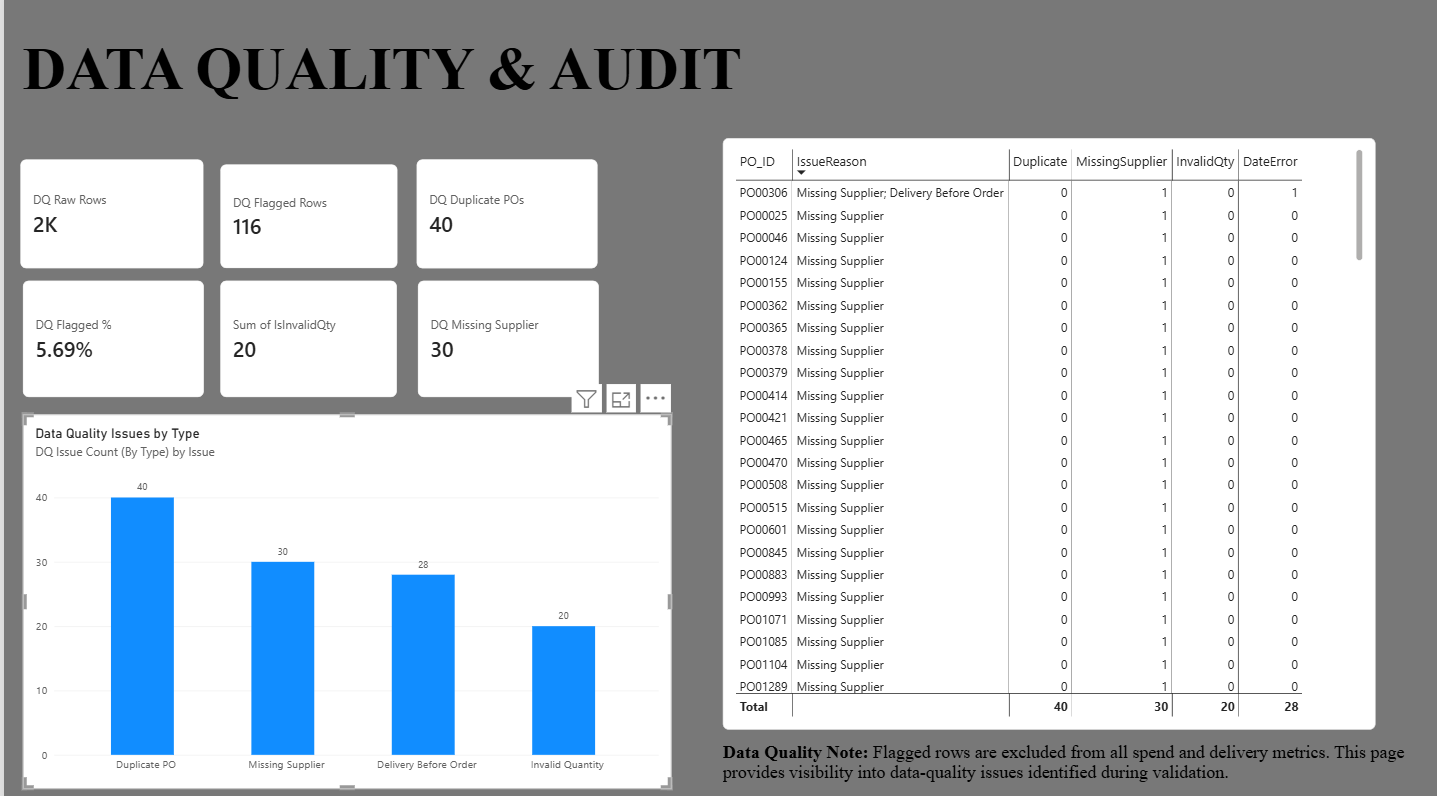

The page's visual inventory and layout, read from the dashboard file:
{"tool":"powerbi","page":{"name":"Data Quality & Audit","canvas":[1920,1080],"ordinal":2},"visuals":[{"type":"cardVisual","fields":{"Data":["DQ_Log.DQ Raw Rows"]},"box":[20.9,221.5,245.9,146.5],"z":0},{"type":"cardVisual","fields":{"Data":["DQ_Log.DQ Flagged %"]},"box":[24.4,383.7,242.4,157],"z":1},{"type":"cardVisual","fields":{"Data":["DQ_Log.DQ Duplicate POs"]},"box":[551.2,221.5,242.9,146.1],"z":2},{"type":"cardVisual","fields":{"Data":["DQ_Log.DQ Missing Supplier"]},"box":[552.9,383.7,242.4,157],"z":3},{"type":"cardVisual","fields":{"Data":["DQ_Log.DQ Flagged Rows"]},"box":[289.5,228.5,237.2,139.5],"z":4},{"type":"cardVisual","fields":{"Data":["Sum(DQ_Log.IsInvalidQty)"]},"box":[289.5,383.7,236.7,156.4],"z":5},{"type":"clusteredColumnChart","title":"Data Quality Issues by Type","fields":{"Category":["DQIssueType.Issue"],"Y":["DQIssueType.DQ Issue Count (By Type)"]},"box":[24.4,563.4,866.6,500.2],"z":6},{"type":"tableEx","fields":{"Values":["DQ_Log.PO_ID","DQ_Log.IssueReason","Sum(DQ_Log.IsDuplicate)","Sum(DQ_Log.IsMissingSupplier)","Sum(DQ_Log.IsInvalidQty)","Sum(DQ_Log.IsDateError)"]},"box":[959.3,193.6,872.1,790.1],"z":7},{"type":"textbox","box":[24.4,55.8,1058.7,113.4],"z":8},{"type":"textbox","box":[959.3,999.4,950.6,80.2],"z":9}]}

Visuals, with their boxes in screenshot pixels (x1, y1, x2, y2), scaled from the page's 1920x1080 canvas onto the 1437x796 screenshot:
cardVisual - DQ_Log.DQ Raw Rows: BBox(16, 163, 200, 271)
cardVisual - DQ_Log.DQ Flagged %: BBox(18, 283, 200, 399)
cardVisual - DQ_Log.DQ Duplicate POs: BBox(413, 163, 594, 271)
cardVisual - DQ_Log.DQ Missing Supplier: BBox(414, 283, 595, 399)
cardVisual - DQ_Log.DQ Flagged Rows: BBox(217, 168, 394, 271)
cardVisual - Sum(DQ_Log.IsInvalidQty): BBox(217, 283, 394, 398)
"Data Quality Issues by Type" clusteredColumnChart: BBox(18, 415, 667, 784)
tableEx - DQ_Log.PO_ID x DQ_Log.IssueReason: BBox(718, 143, 1371, 725)
textbox: BBox(18, 41, 811, 125)
textbox: BBox(718, 737, 1429, 795)
